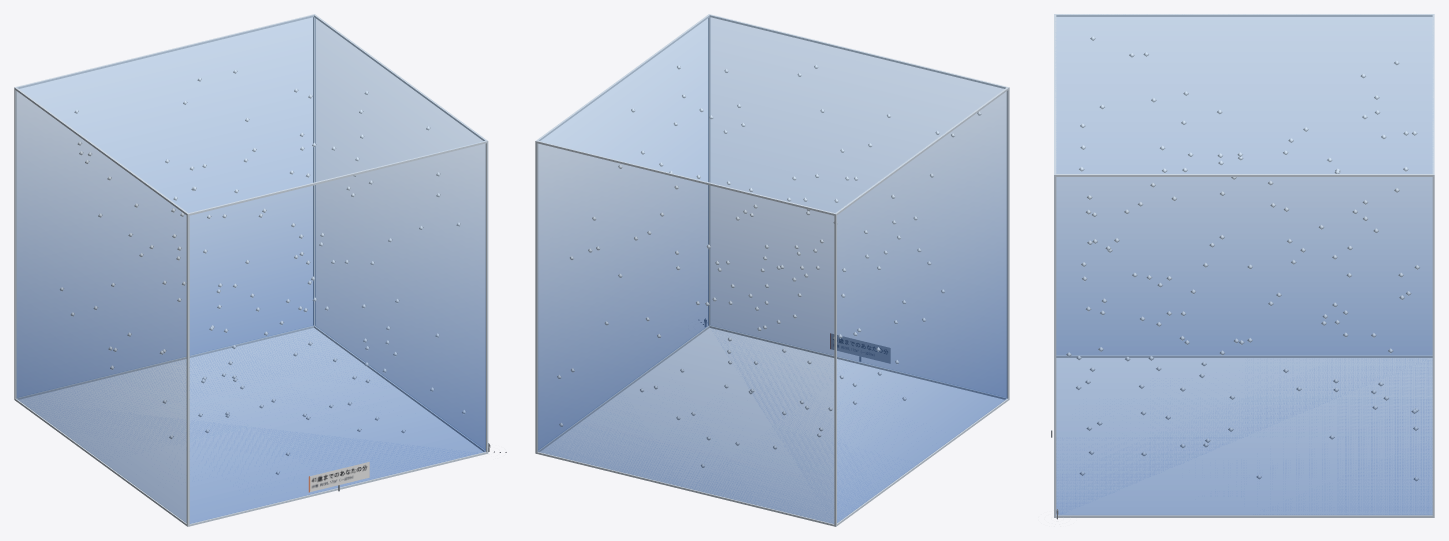
Rendered from cube_life_41.glb.
3 views of the same model, side by side, from view 1: azimuth 30°, elevation 25°; view 2: azimuth 150°, elevation 25°; view 3: azimuth 270°, elevation 25° (orthographic). The views are drawn at different scales.
Parts seen in each view (by area): view 1: co2, edge, dots, label; view 2: co2, edge, dots, label; view 3: co2, edge, dots.
Boxes of the visible parts, x1,y1,x2,y2 form: co2: [16, 15, 485, 523]; edge: [14, 14, 488, 526]; dots: [60, 69, 465, 474]; label: [308, 462, 369, 492]; co2: [538, 15, 1007, 523]; edge: [535, 14, 1009, 526]; dots: [557, 64, 981, 467]; label: [830, 333, 890, 363]; co2: [1056, 15, 1433, 514]; edge: [1054, 14, 1434, 517]; dots: [1066, 36, 1419, 481].
Size of the model in its own units: 62.72 by 58.98 by 61.82.
8 materials, 3 textured.
